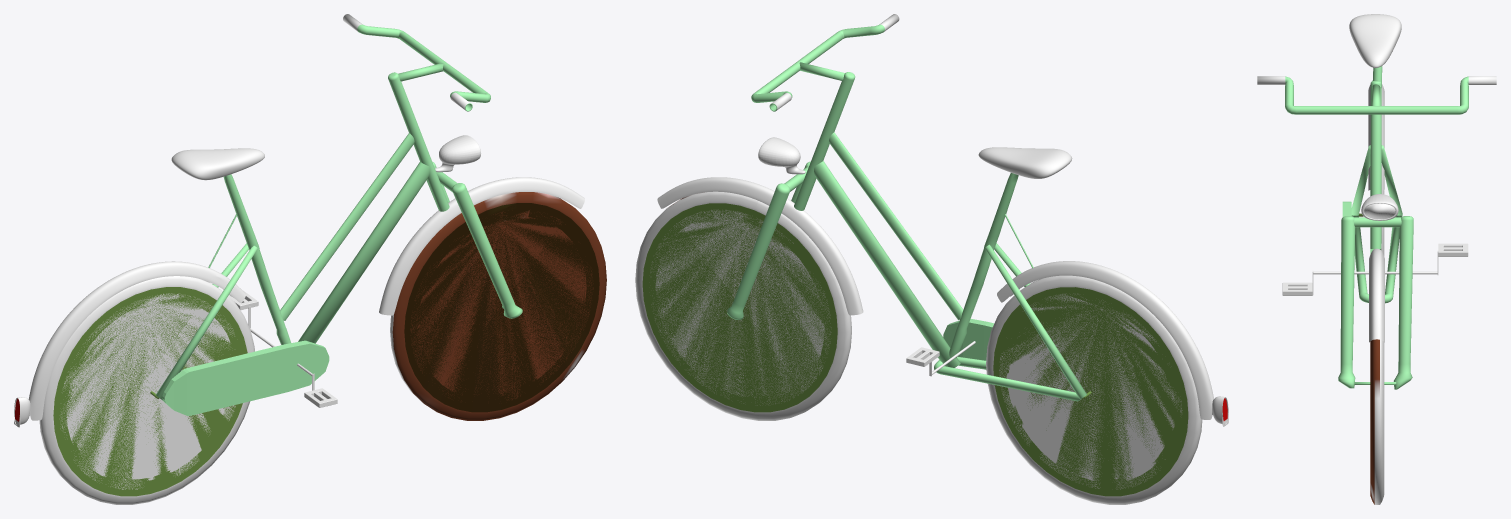
File: bike_mint.fbx
3 views of the same model, side by side, from view 1: azimuth 30°, elevation 25°; view 2: azimuth 150°, elevation 25°; view 3: azimuth 270°, elevation 25° (orthographic).
Parts seen in each view (by area): view 1: BikePristineGreen; view 2: BikePristineGreen; view 3: BikePristineGreen.
Boxes of the visible parts, <box> form: BikePristineGreen: <box>14,14,606,504</box>; BikePristineGreen: <box>635,14,1228,504</box>; BikePristineGreen: <box>1257,14,1496,504</box>.
Size of the model in its own units: 82.92 by 51.17 by 29.74.
